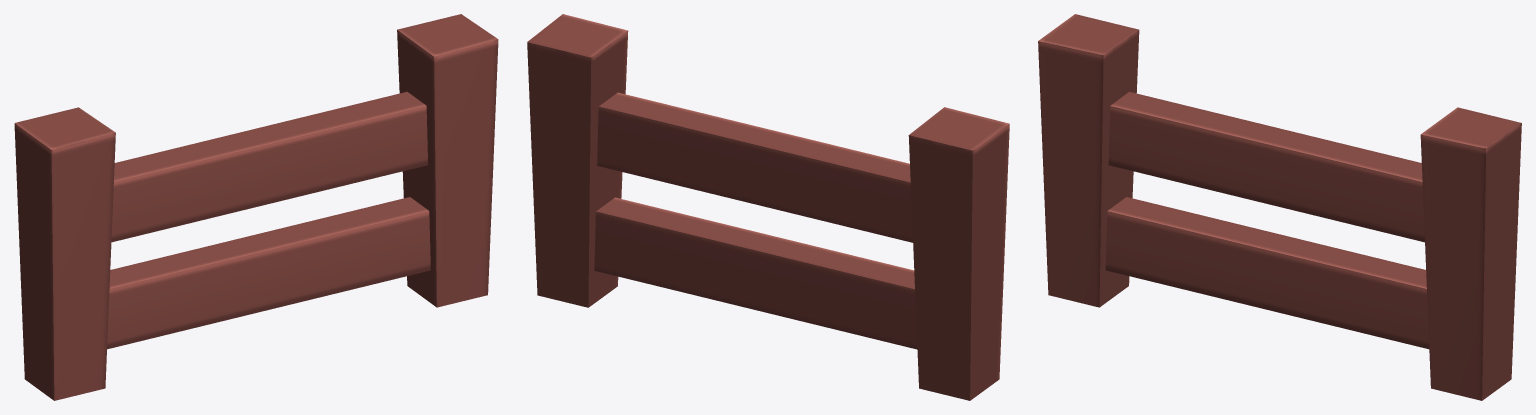
File: fence_011.fbx
The picture shows the model from 3 angles, left to right: view 1: azimuth 30°, elevation 25°; view 2: azimuth 150°, elevation 25°; view 3: azimuth 330°, elevation 25°; orthographic projection.
Visible parts, largest first — view 1: Куб.003; view 2: Куб.003; view 3: Куб.003.
Part boxes in pixels (x1,y1,x2,y2): Куб.003: [14, 14, 498, 400]; Куб.003: [527, 14, 1009, 400]; Куб.003: [1038, 14, 1521, 400].
Size of the model in its own units: 128 by 70.22 by 18.4.
